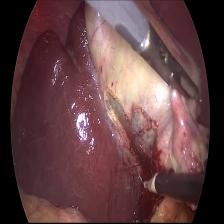Grasper: (139, 23, 202, 110)
Hook: (137, 164, 159, 198)
